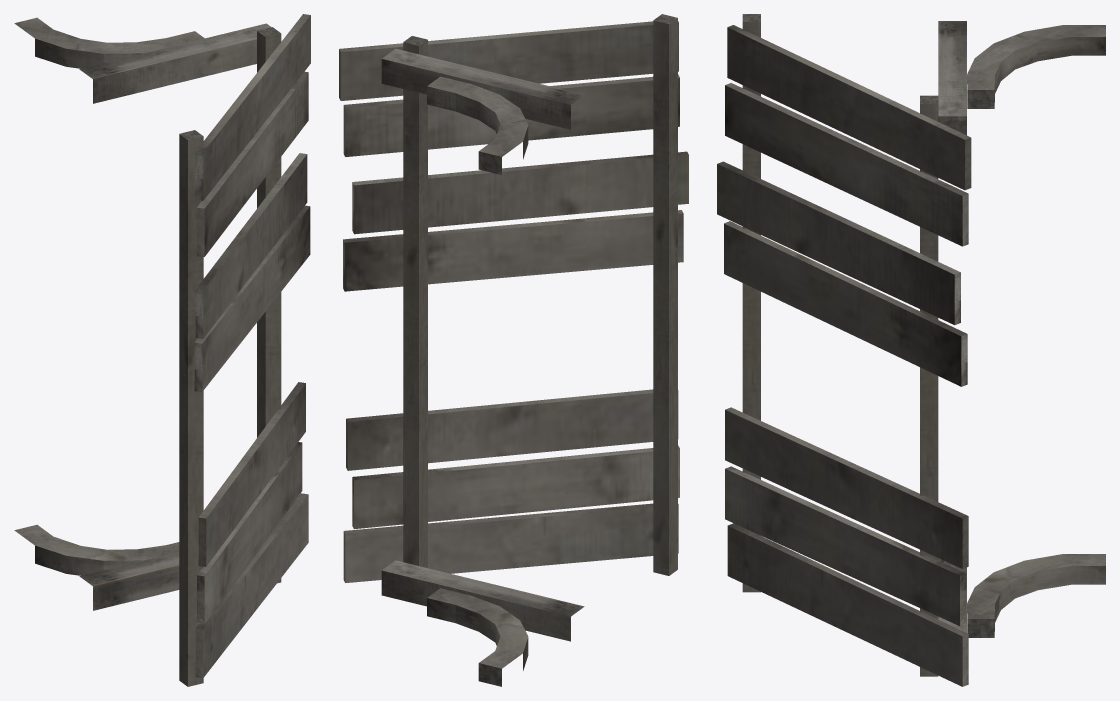
The model's file is awning_desert_wood_large4.glb.
3 views of the same model, side by side, from view 1: azimuth 30°, elevation 25°; view 2: azimuth 150°, elevation 25°; view 3: azimuth 270°, elevation 25° (orthographic). The views are drawn at different scales.
Size of the model in its own units: 30.66 by 69.61 by 42.82.
Materials: 1 (1 with a texture image).
